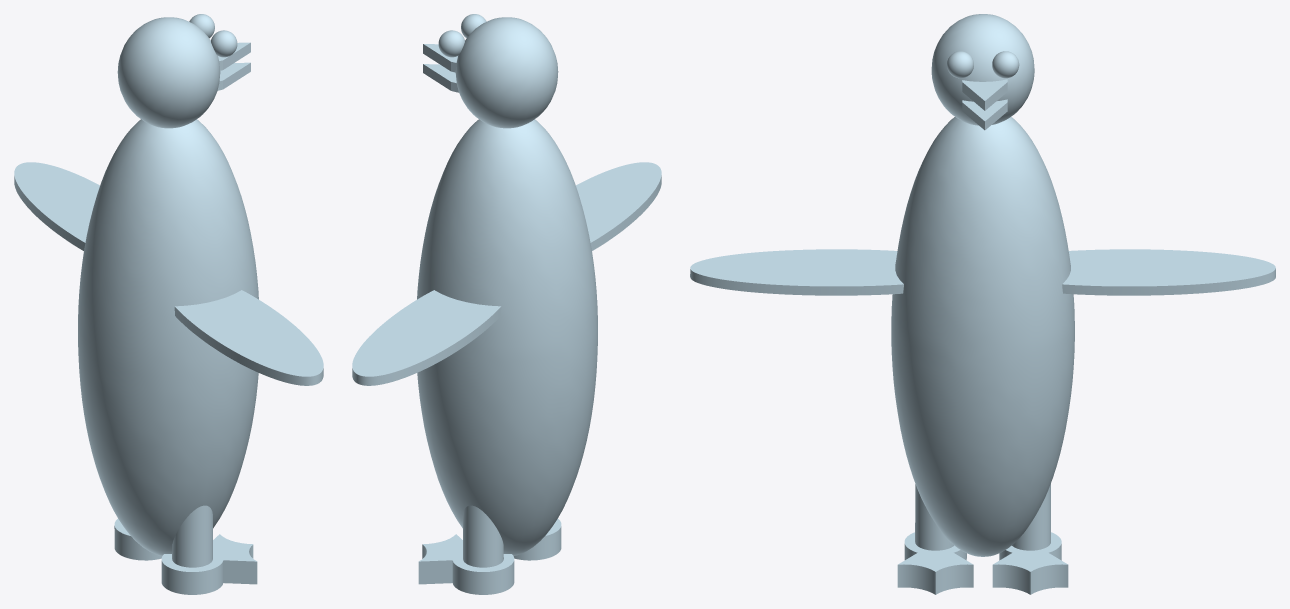
File: Penguin.glb
3 views of the same model, side by side, from view 1: azimuth 30°, elevation 25°; view 2: azimuth 150°, elevation 25°; view 3: azimuth 270°, elevation 25° (orthographic).
Parts seen in each view (by area): view 1: ID3; view 2: ID3; view 3: ID3.
Part boxes in pixels (box(x1,y1,x2,y2)): ID3: box(14, 14, 323, 594); ID3: box(352, 14, 661, 594); ID3: box(690, 14, 1275, 594).
Size of the model in its own units: 1.85 by 5.94 by 5.76.
